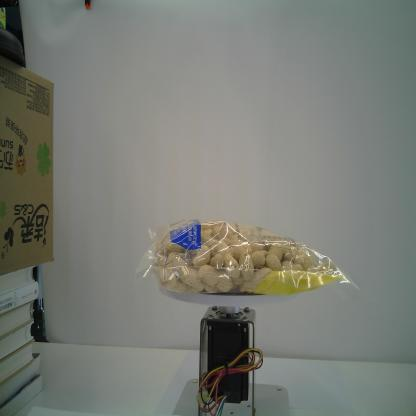Dried Food: (134, 217, 363, 295)
